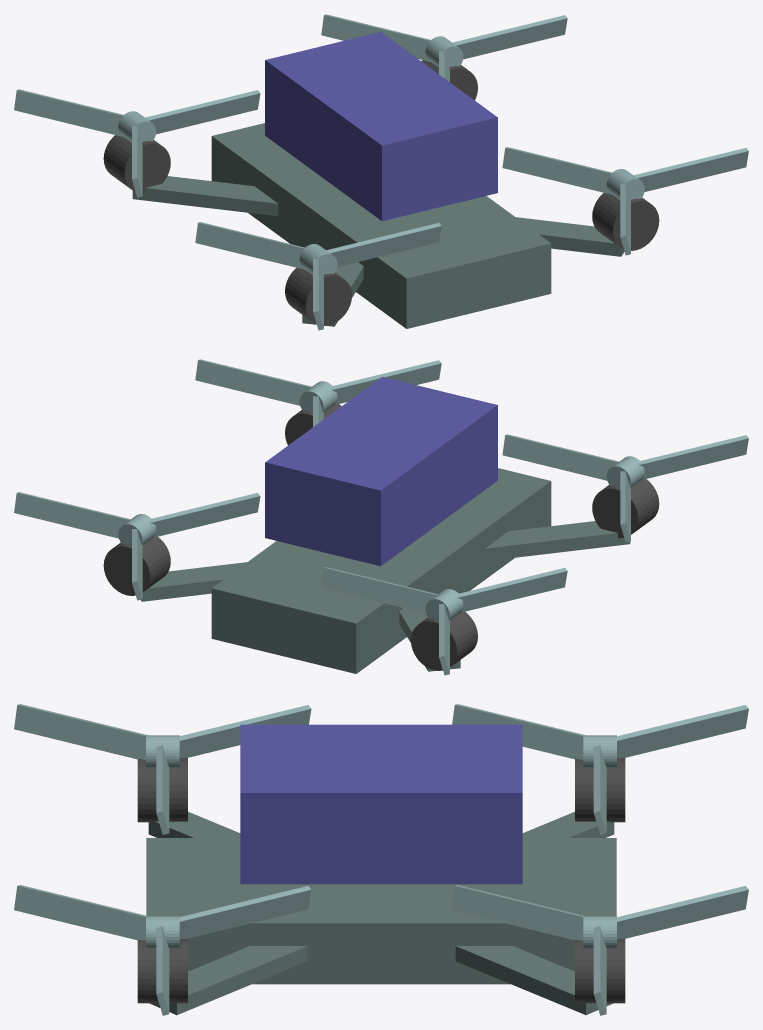
The model's file is Dominator.glb.
3 renders of one model, top to bottom at view 1: azimuth 30°, elevation 25°; view 2: azimuth 150°, elevation 25°; view 3: azimuth 270°, elevation 25°, orthographic. The views are drawn at different scales.
Parts seen in each view (by area): view 1: battery, frame_body, prop_3, prop_2, prop_0, prop_1, arm_3, motor_0, motor_2, motor_3, arm_0, motor_1 (+1 smaller); view 2: battery, frame_body, prop_2, prop_1, prop_3, prop_0, arm_2, motor_1, motor_3, motor_2, arm_1, motor_0 (+1 smaller); view 3: battery, frame_body, prop_0, prop_1, prop_2, prop_3, arm_1, arm_0, motor_1, motor_0, motor_3, motor_2 (+2 smaller).
Part boxes in pixels (x1=…): battery: x1=265, y1=32, x2=497, y2=221; frame_body: x1=211, y1=123, x2=551, y2=328; prop_3: x1=14, y1=89, x2=260, y2=197; prop_2: x1=195, y1=222, x2=441, y2=330; prop_0: x1=502, y1=147, x2=748, y2=255; prop_1: x1=321, y1=14, x2=567, y2=81; arm_3: x1=132, y1=176, x2=278, y2=216; motor_0: x1=592, y1=193, x2=659, y2=250; motor_2: x1=285, y1=267, x2=351, y2=325; motor_3: x1=103, y1=135, x2=170, y2=193; arm_0: x1=516, y1=217, x2=624, y2=256; motor_1: x1=421, y1=60, x2=477, y2=100; battery: x1=265, y1=377, x2=497, y2=566; frame_body: x1=211, y1=468, x2=551, y2=673; prop_2: x1=502, y1=434, x2=748, y2=542; prop_1: x1=14, y1=492, x2=260, y2=600; prop_3: x1=321, y1=567, x2=567, y2=675; prop_0: x1=195, y1=359, x2=441, y2=426; arm_2: x1=484, y1=521, x2=630, y2=561; motor_1: x1=103, y1=537, x2=170, y2=595; motor_3: x1=411, y1=612, x2=477, y2=670; motor_2: x1=592, y1=479, x2=659, y2=538; arm_1: x1=141, y1=562, x2=246, y2=601; motor_0: x1=285, y1=404, x2=341, y2=445; battery: x1=240, y1=724, x2=522, y2=884; frame_body: x1=146, y1=838, x2=616, y2=984; prop_0: x1=14, y1=885, x2=311, y2=1015; prop_1: x1=451, y1=885, x2=748, y2=1015; prop_2: x1=14, y1=704, x2=311, y2=834; prop_3: x1=452, y1=704, x2=748, y2=834; arm_1: x1=455, y1=946, x2=613, y2=1015; arm_0: x1=149, y1=946, x2=307, y2=1015; motor_1: x1=575, y1=939, x2=625, y2=1003; motor_0: x1=137, y1=939, x2=187, y2=1003; motor_3: x1=575, y1=758, x2=625, y2=822; motor_2: x1=137, y1=758, x2=187, y2=822.
Bounding box in the file's own units: 0.2041 × 0.06 × 0.2187.
